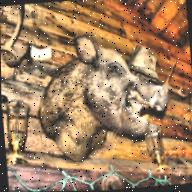boar: (30, 28, 173, 166)
